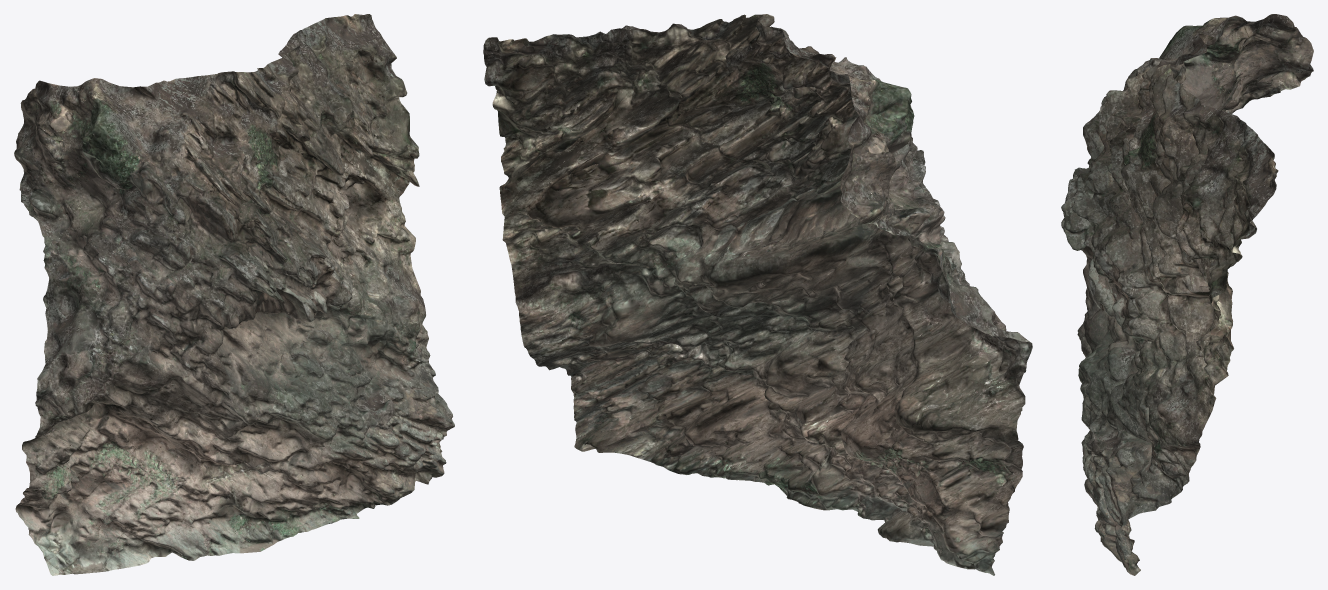
The model's file is mountainside.glb.
The picture shows the model from 3 angles, left to right: view 1: azimuth 30°, elevation 25°; view 2: azimuth 150°, elevation 25°; view 3: azimuth 270°, elevation 25°; orthographic projection. The views are drawn at different scales.
Visible parts, largest first — view 1: mountainside_LOD0; view 2: mountainside_LOD0; view 3: mountainside_LOD0.
Part boxes in pixels (bbox=[...]): mountainside_LOD0: bbox=[14, 14, 454, 575]; mountainside_LOD0: bbox=[483, 14, 1032, 575]; mountainside_LOD0: bbox=[1061, 14, 1313, 575].
Size of what is drawn, in the model's own units: 10.33 by 10.52 by 5.48.
1 material, 1 textured.
